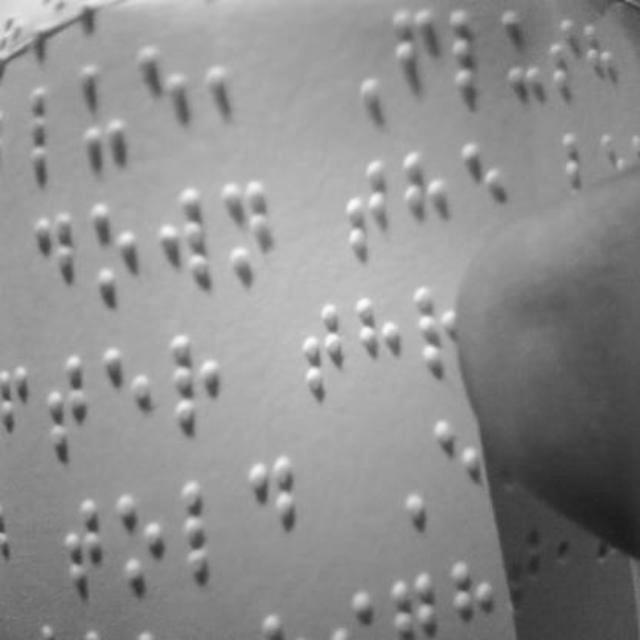braiile: (141, 35, 201, 162), (207, 19, 263, 149), (248, 449, 308, 567), (80, 53, 144, 163), (160, 180, 220, 296), (170, 326, 230, 442), (401, 144, 457, 264), (464, 139, 520, 259), (179, 472, 237, 586), (114, 483, 170, 601), (45, 343, 97, 469), (412, 278, 472, 386), (223, 171, 275, 295), (58, 492, 112, 608), (24, 80, 84, 184), (102, 343, 154, 461), (353, 283, 405, 401), (342, 154, 392, 270), (89, 199, 139, 311), (390, 5, 442, 109), (0, 362, 52, 466), (298, 300, 346, 410), (452, 5, 498, 109), (30, 208, 80, 302), (500, 1, 548, 97), (548, 11, 582, 95)
